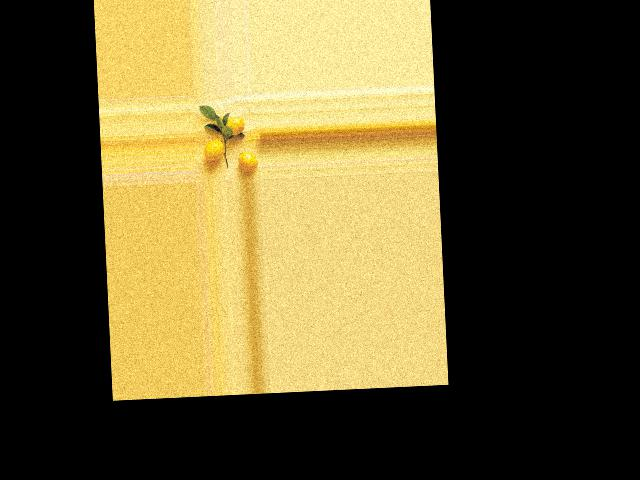lemon: (236, 149, 258, 175)
